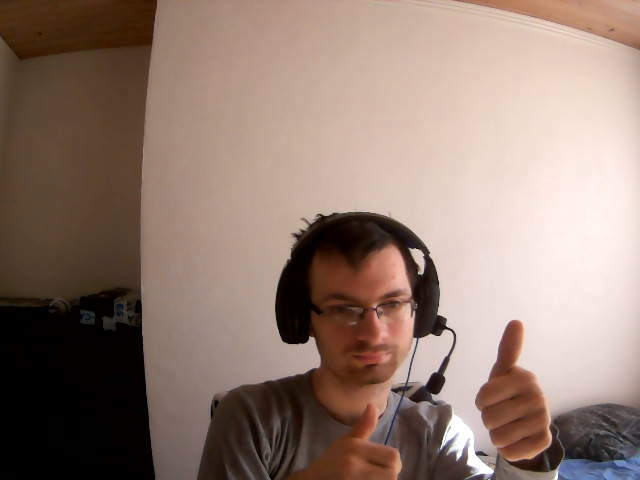nice: (471, 317, 556, 462)
